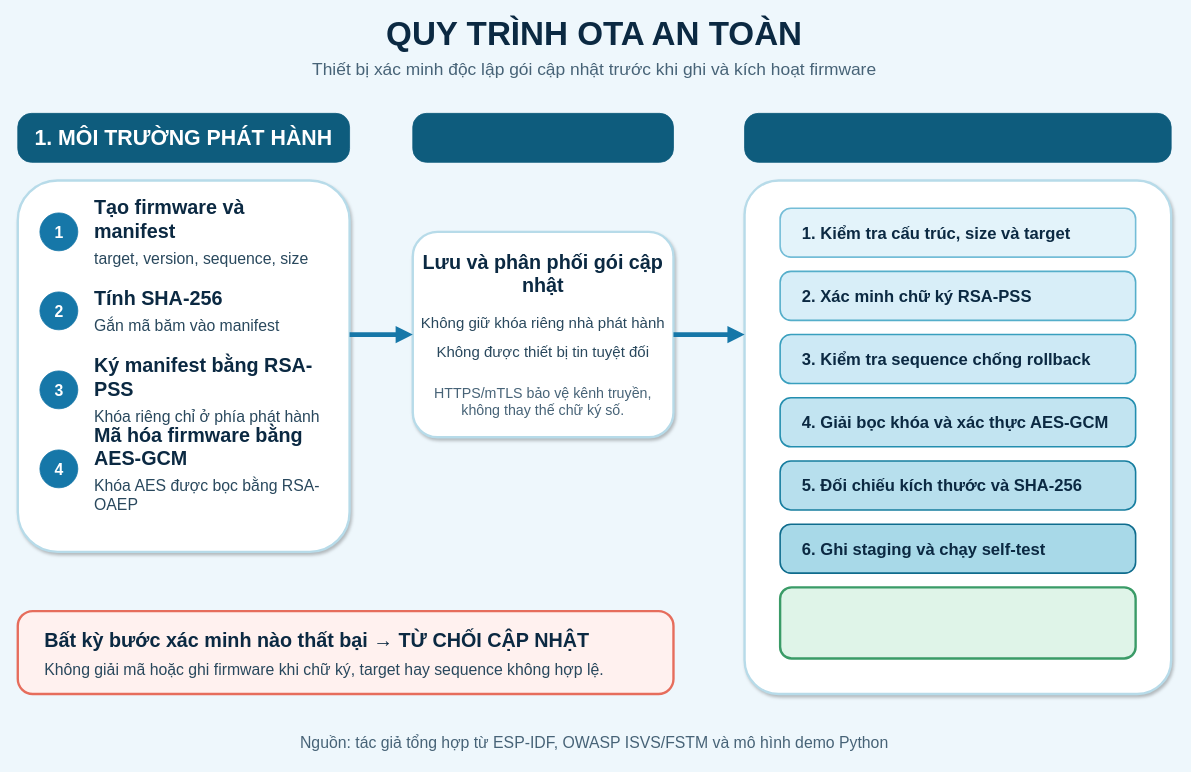
The diagram is 1191 pixels wide and 772 high, and some of its shapes have lost their labels. Each missing label, with the centre of its shape:
2. MÁY CHỦ OTA: pixel 542 137
3. THIẾT BỊ IOT XÁC MINH: pixel 957 137
7. PASS: commit firmware mới FAIL: giữ hoặc khôi phục firmware cũ: pixel 957 622
